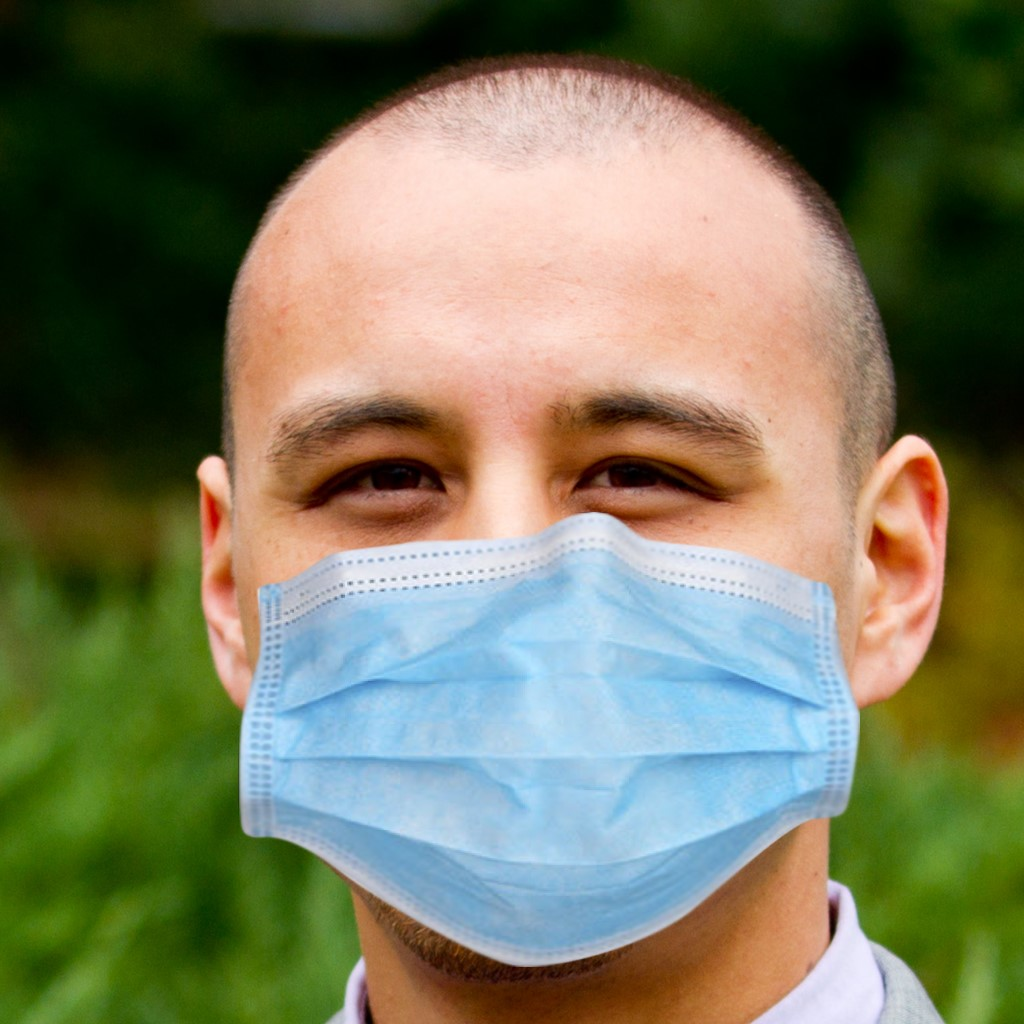con_mascara: (216, 107, 883, 987)
